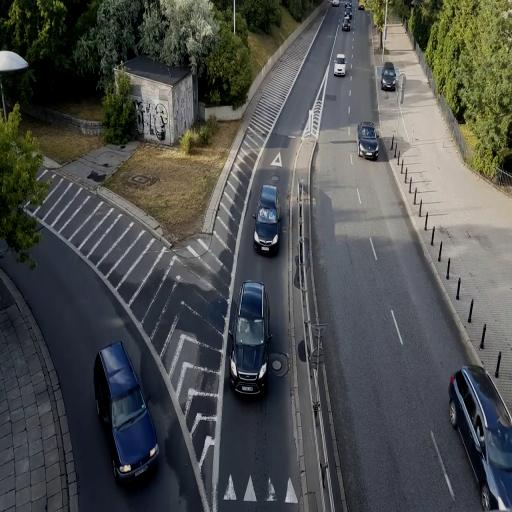vehicle: (93, 339, 160, 486), (448, 363, 512, 510), (230, 280, 270, 394), (254, 184, 280, 256), (358, 123, 379, 159), (380, 62, 397, 90), (333, 53, 347, 78)
